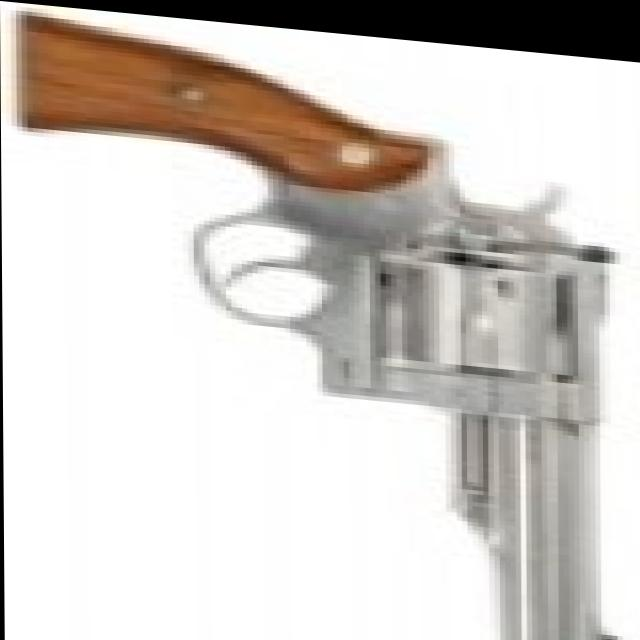handgun: (16, 13, 633, 640)
